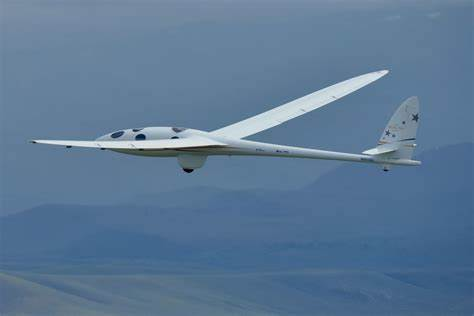Aeronef_de_loisir: (21, 63, 444, 188)
